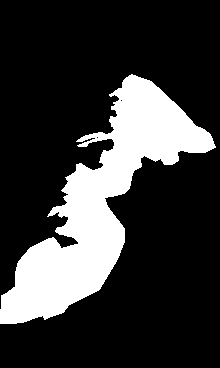Fire: (59, 172, 135, 266), (106, 93, 172, 176), (1, 252, 73, 324)
